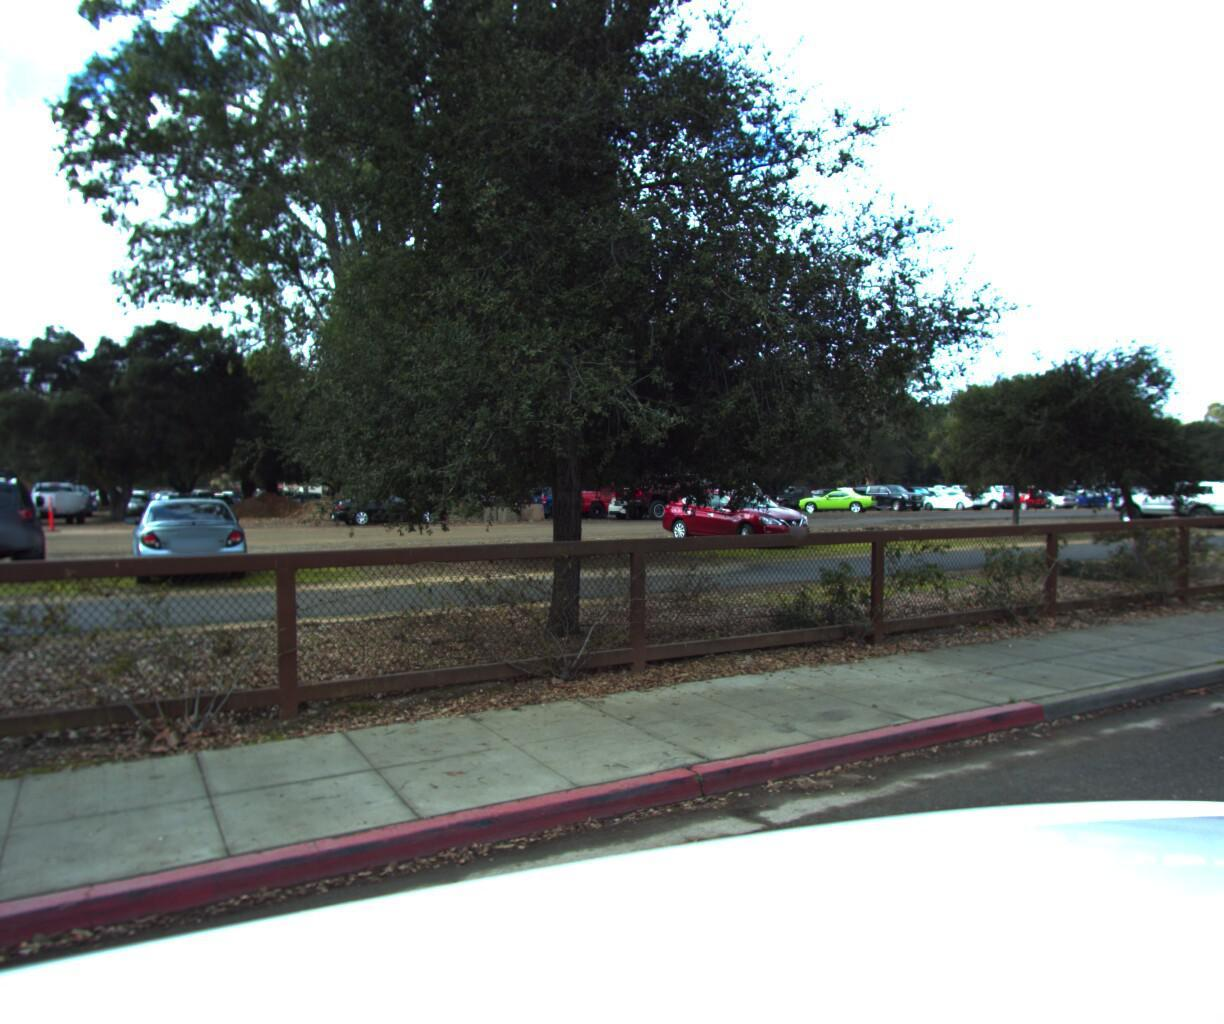other_vehicle: (1176, 317, 1224, 715)
